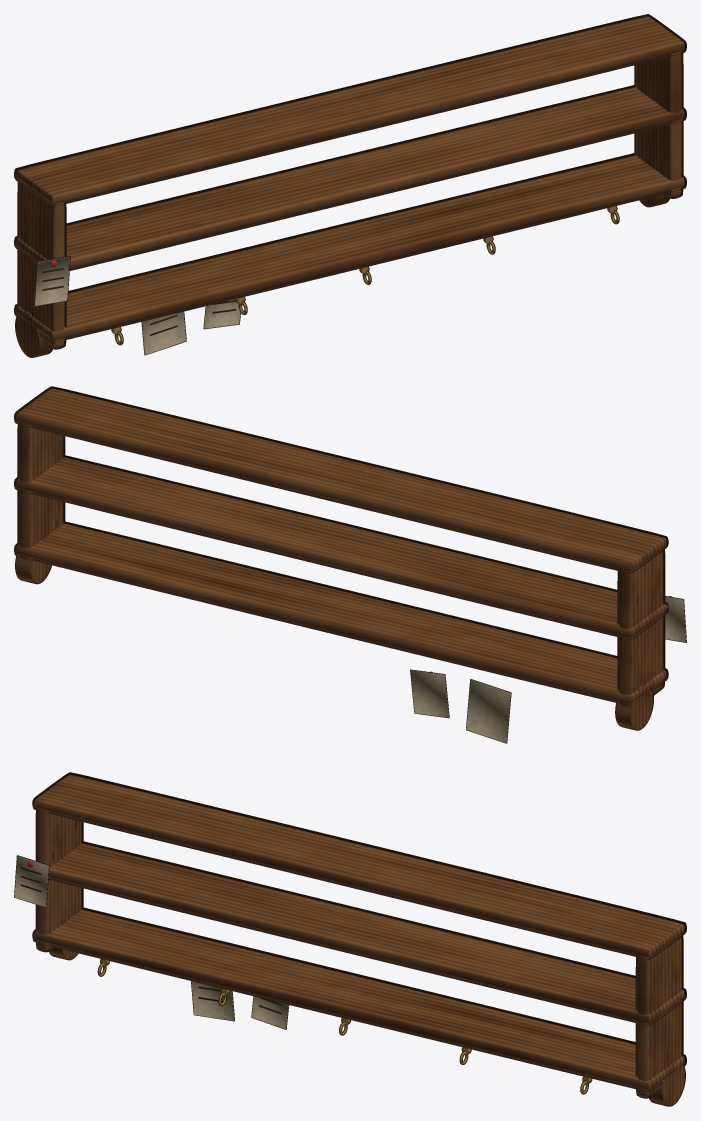
The model's file is Lab_ShelfFrame.fbx.
3 renders of one model, top to bottom at view 1: azimuth 30°, elevation 25°; view 2: azimuth 150°, elevation 25°; view 3: azimuth 330°, elevation 25°, orthographic. The views are drawn at different scales.
Visible parts, largest first — view 1: Lab_ShelfFrame, Lab_ShelfFrame_Outline; view 2: Lab_ShelfFrame, Lab_ShelfFrame_Outline; view 3: Lab_ShelfFrame, Lab_ShelfFrame_Outline.
Part boxes in pixels (x1,y1,x2,y2): Lab_ShelfFrame: (16, 16, 684, 356); Lab_ShelfFrame_Outline: (14, 14, 686, 357); Lab_ShelfFrame: (16, 388, 686, 742); Lab_ShelfFrame_Outline: (14, 386, 686, 743); Lab_ShelfFrame: (14, 774, 684, 1105); Lab_ShelfFrame_Outline: (14, 772, 686, 1106).
Size of the model in its own units: 10.82 by 3.47 by 1.2.
